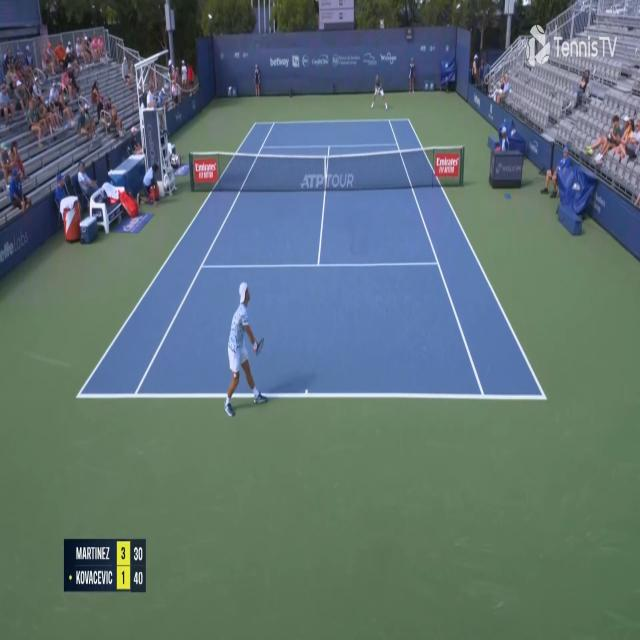tennis-player: (220, 280, 268, 422), (370, 74, 388, 112)
